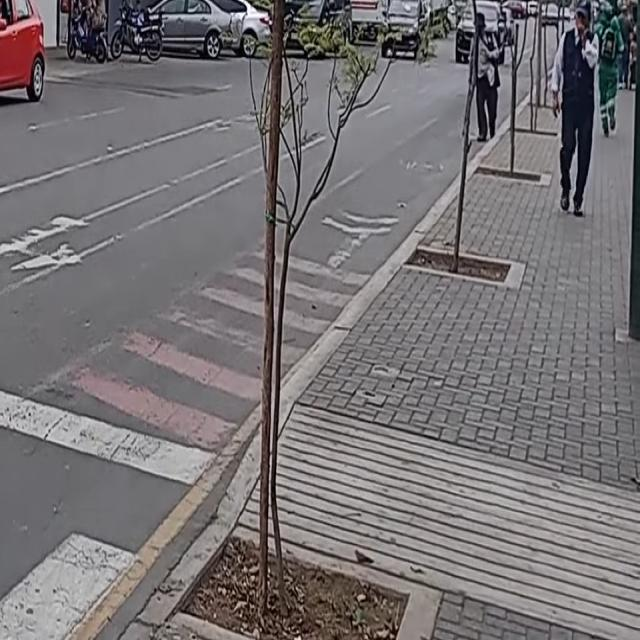car: (135, 0, 233, 59), (0, 0, 45, 108), (380, 0, 429, 57)
motorcycle: (110, 0, 160, 58)
